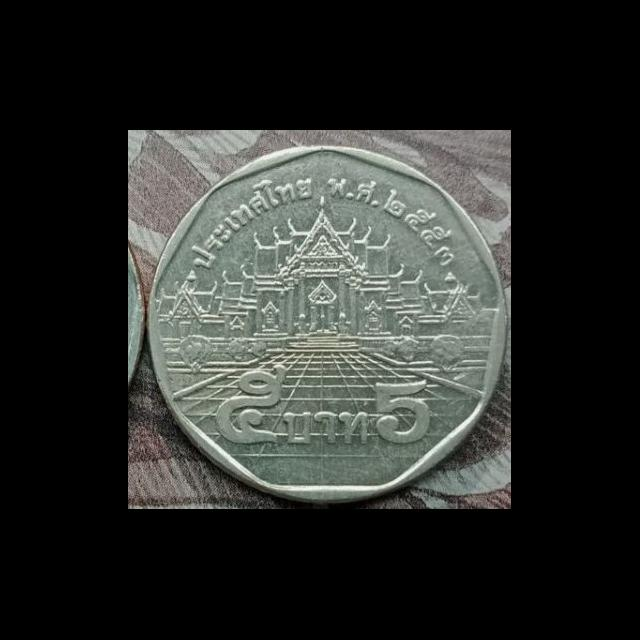5-baht: (128, 130, 512, 510)
